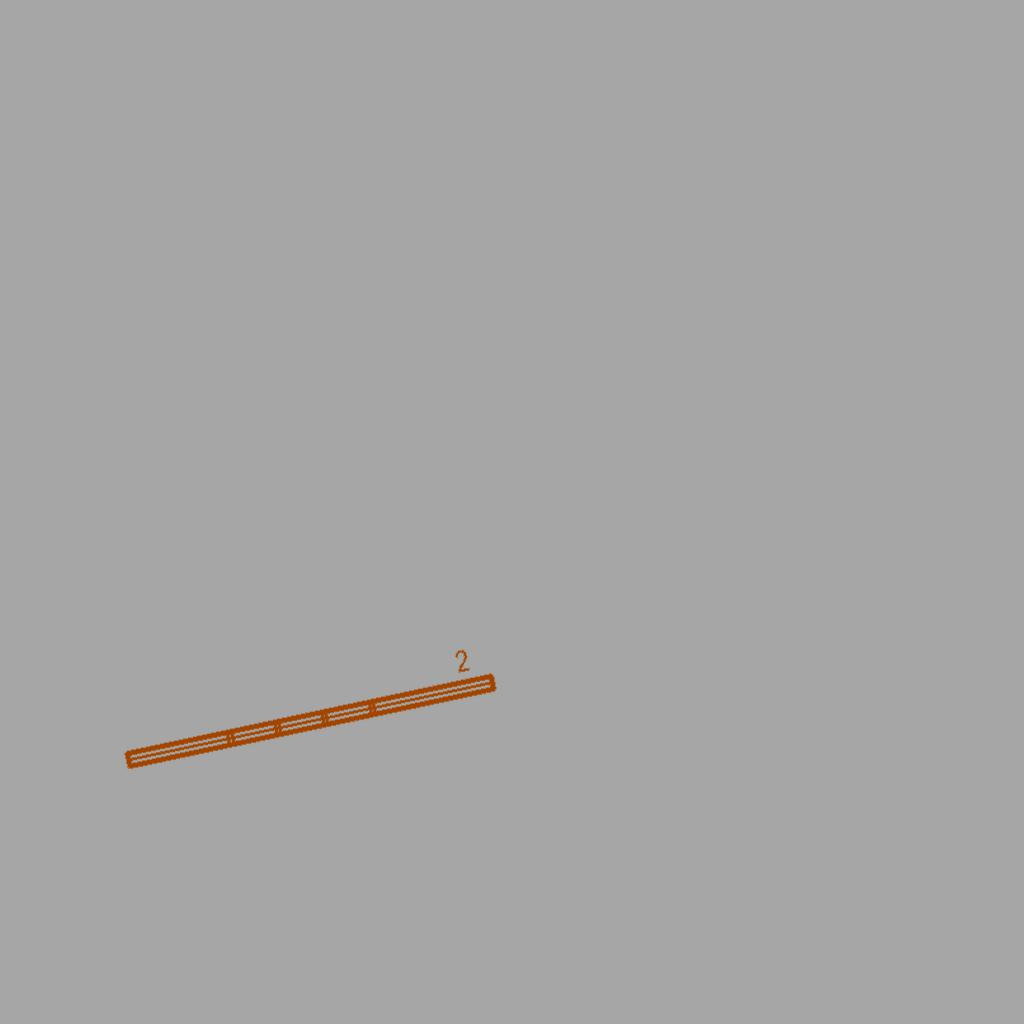Ambulanz_Pendelleuchte_LED: (112, 641, 503, 777)
